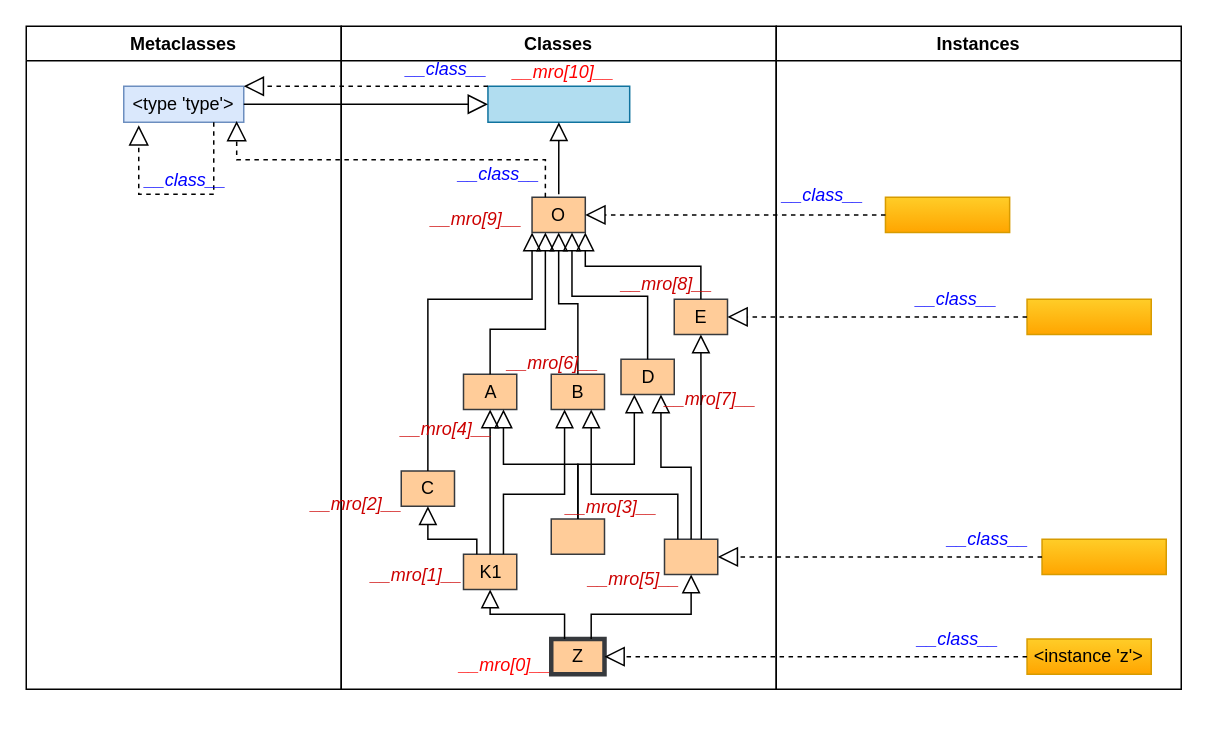
Some shapes in this 1208 by 731 pixel diagram are drawn without their labels. The centre of each missing label's shape, as x and y in pixels:
<instance 'e'>: (x=1088, y=316)
<instance 'k2'>: (x=1103, y=556)
<instance 'o'>: (x=947, y=214)
<type 'object'>: (x=558, y=103)
K2: (x=690, y=556)
K3: (x=577, y=536)
